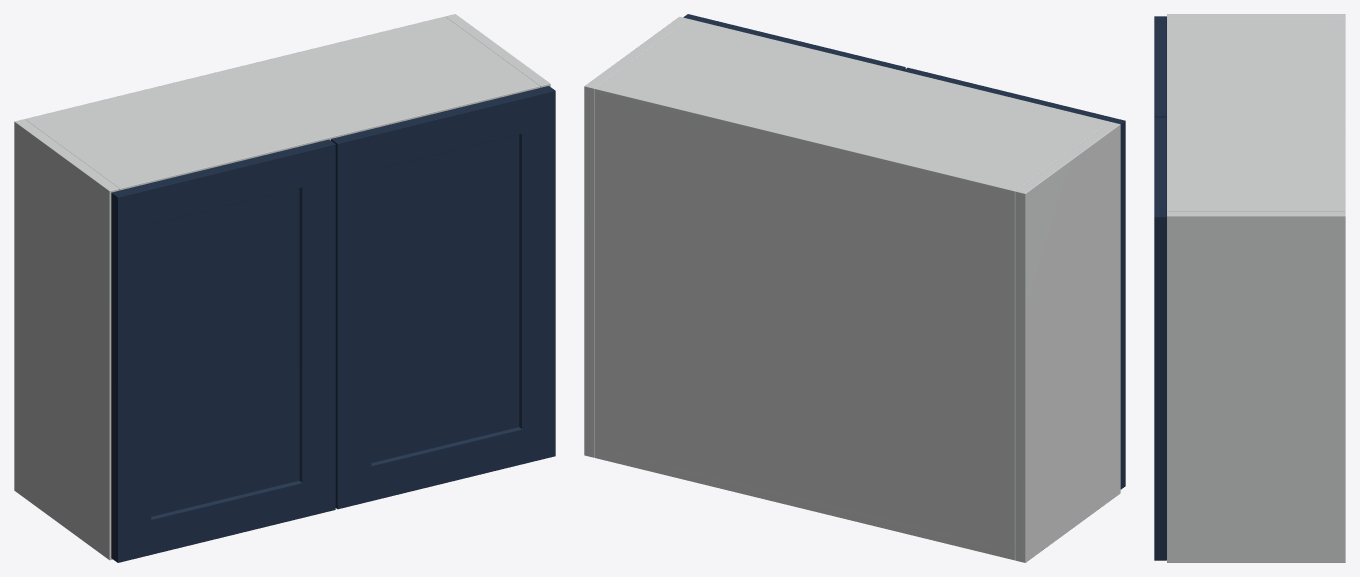
The model's file is oppein-ply-bss-w3024.glb.
The picture shows the model from 3 angles, left to right: view 1: azimuth 30°, elevation 25°; view 2: azimuth 150°, elevation 25°; view 3: azimuth 270°, elevation 25°; orthographic projection. The views are drawn at different scales.
Visible parts, largest first — view 1: Door, Door.001, Cabinet top, Cabinet side, Cabinet back, Cabinet side.001; view 2: Cabinet back, Cabinet top, Cabinet side, Cabinet side.001, Door, Cabinet bottom, Door.001; view 3: Cabinet side.001, Cabinet top, Door.001, Cabinet back, Door, Cabinet side.
Part boxes in pixels (x1,y1,x2,y2): Door: (111,139,335,562); Door.001: (331,86,555,509); Cabinet top: (25,17,539,190); Cabinet side: (14,119,119,560); Cabinet back: (25,16,448,121); Cabinet side.001: (445,14,550,87); Cabinet back: (595,86,1018,560); Cabinet top: (595,19,1109,200); Cabinet side: (1015,122,1120,562); Cabinet side.001: (584,16,689,457); Door: (903,67,1125,489); Cabinet bottom: (595,447,1014,558); Door.001: (683,14,905,70); Cabinet side.001: (1167,211,1345,562); Cabinet top: (1167,18,1345,211); Door.001: (1154,117,1166,560); Cabinet back: (1338,18,1345,211); Door: (1154,16,1166,117); Cabinet side: (1167,14,1345,18).
Size of the model in its own units: 0.762 by 0.6096 by 0.3048.
